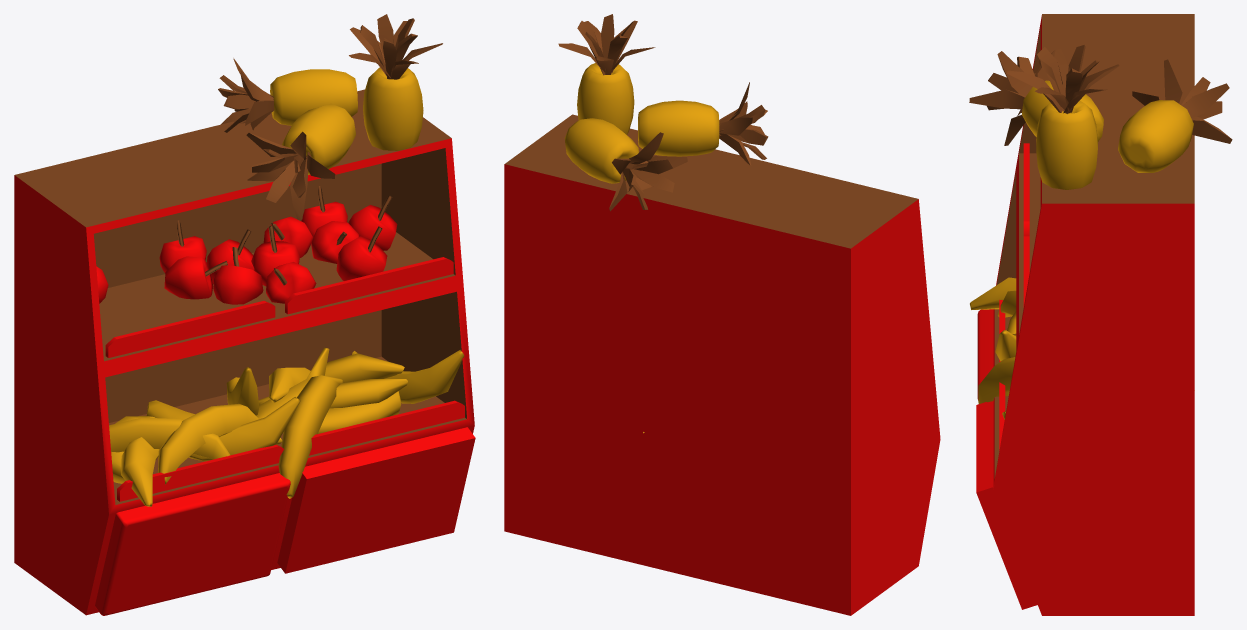
File: Shelve_Fruit_02.fbx
The picture shows the model from 3 angles, left to right: view 1: azimuth 30°, elevation 25°; view 2: azimuth 150°, elevation 25°; view 3: azimuth 270°, elevation 25°; orthographic projection. The views are drawn at different scales.
Visible parts, largest first — view 1: pasted__Shelf_B_053; view 2: pasted__Shelf_B_053; view 3: pasted__Shelf_B_053.
Part boxes in pixels (x1,y1,x2,y2): pasted__Shelf_B_053: (14, 14, 475, 615); pasted__Shelf_B_053: (504, 14, 940, 615); pasted__Shelf_B_053: (969, 14, 1232, 615).
Bounding box in the file's own units: 10.01 × 13.17 × 5.87.
Materials: 3 (3 with a texture image).
